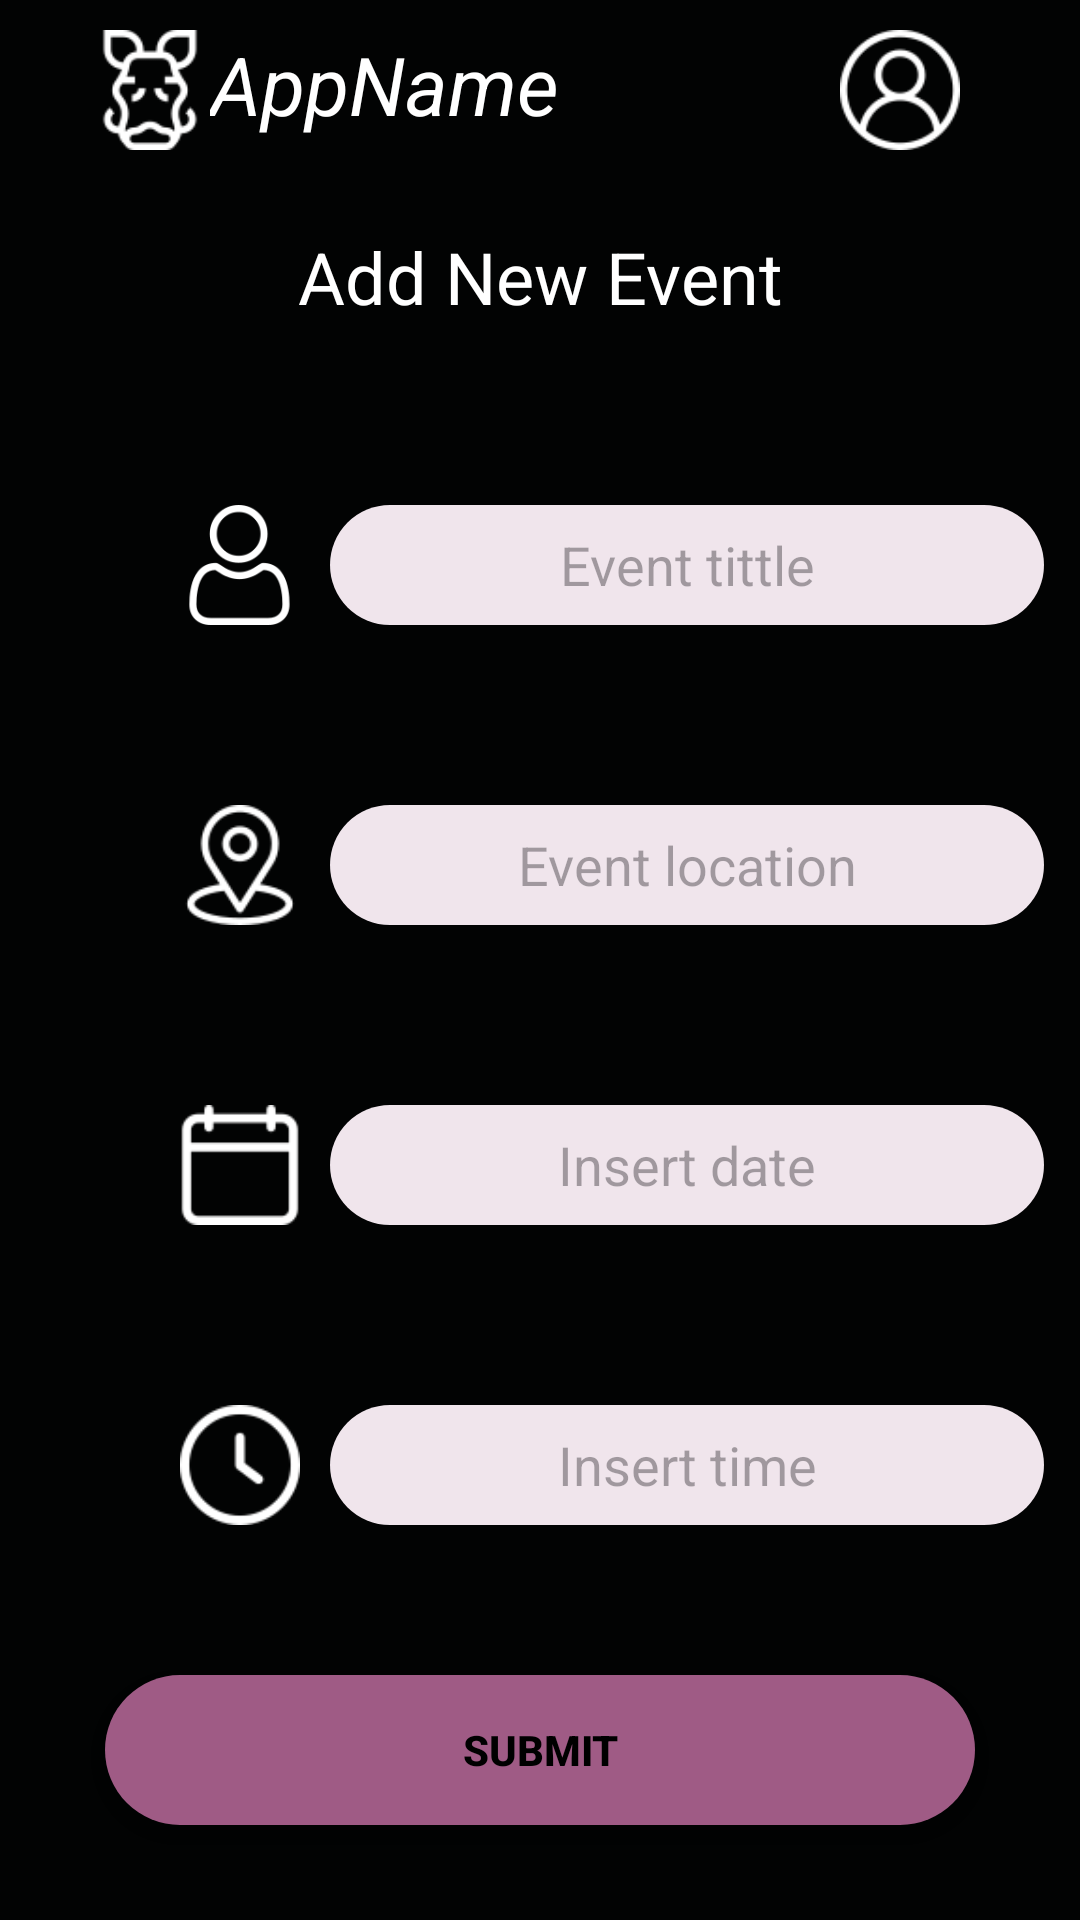

Icon bounding boxes for this 1080×1920 phone screenshot, format (x1, y1, x2, y2):
calendar: (181, 1105, 299, 1225)
clock: (180, 1405, 300, 1525)
user: (189, 505, 290, 625)
userprofile: (840, 30, 960, 150)
warthog: (103, 30, 197, 150)
